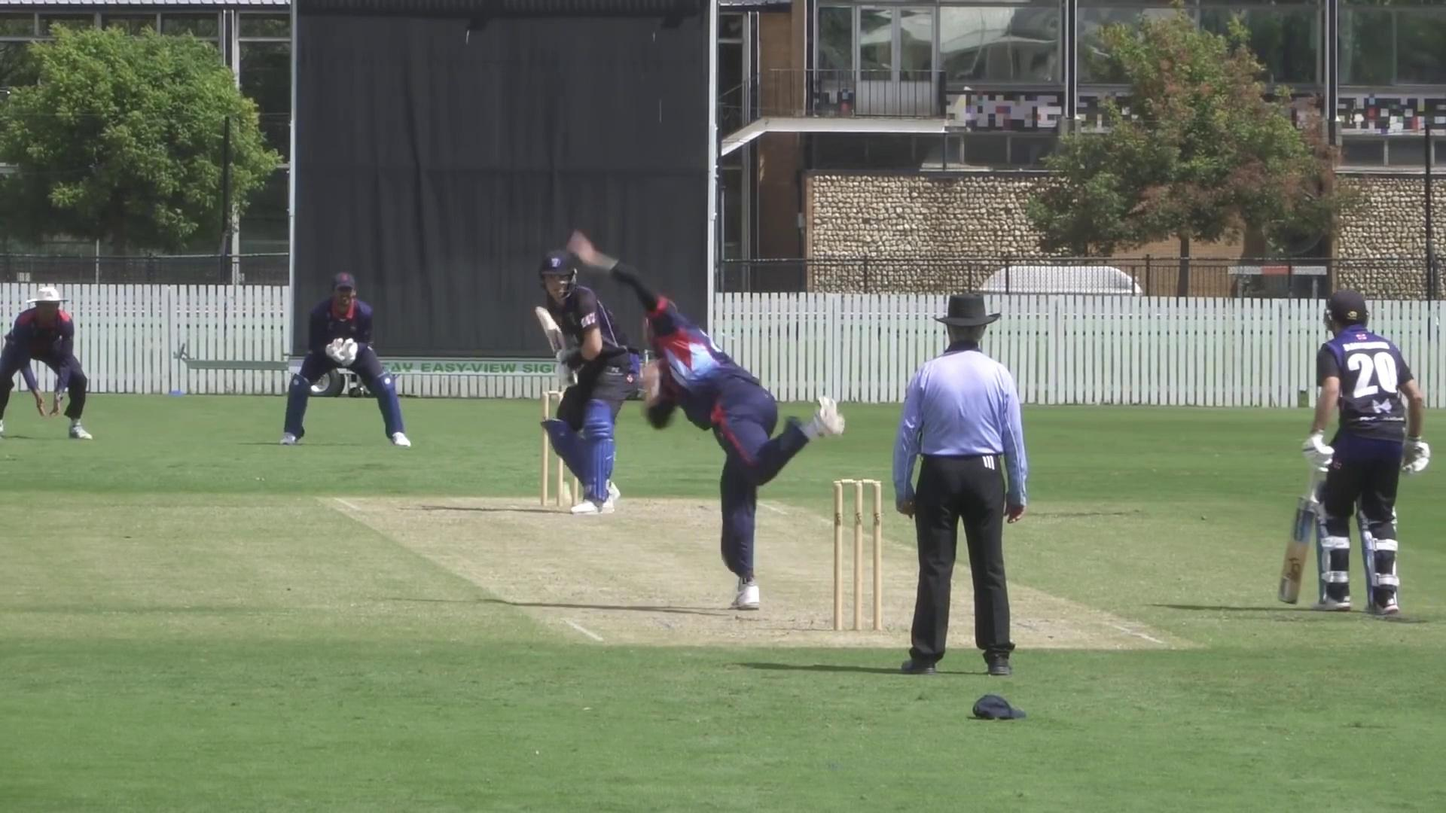ball: (555, 483, 576, 513)
